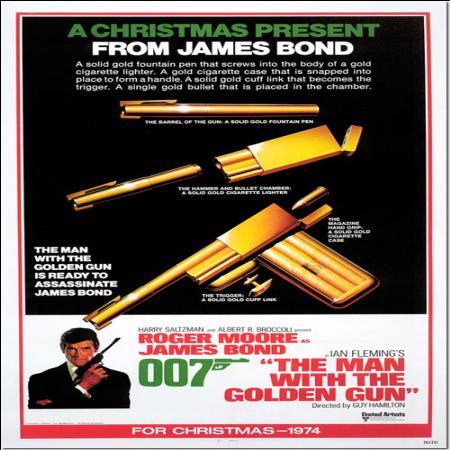Pistol: (70, 182, 377, 326), (68, 334, 122, 391)
